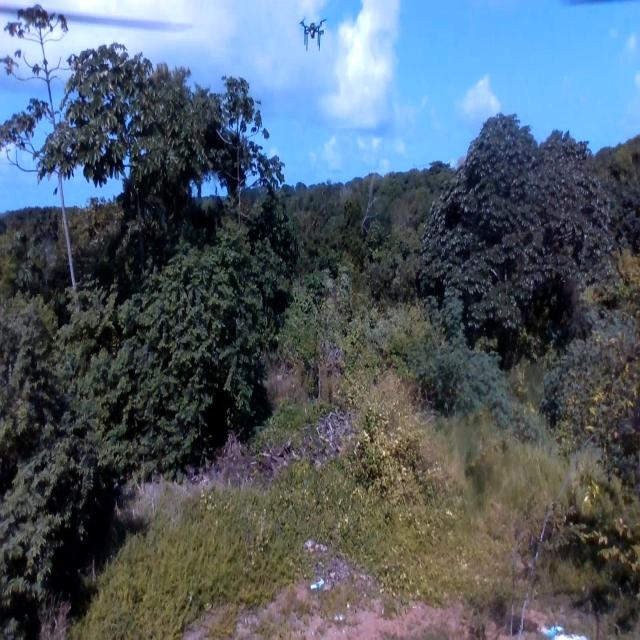-uav-: (295, 7, 337, 80)
